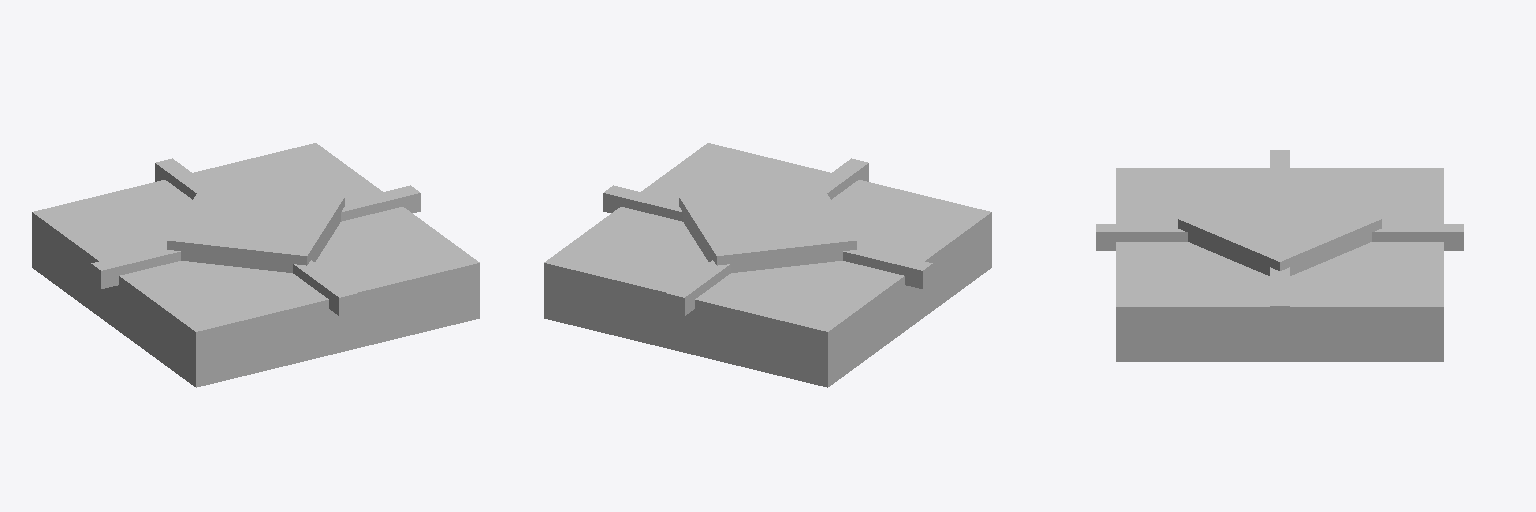
Rendered from conditionalPlate.obj.
3 views of the same model, side by side, from view 1: azimuth 30°, elevation 25°; view 2: azimuth 150°, elevation 25°; view 3: azimuth 270°, elevation 25° (orthographic).
Visible parts, largest first — view 1: Plate, ConditionalInstalled_Conditional, xChannel_Cube.005, yChannel_Cube.004; view 2: Plate, ConditionalInstalled_Conditional, xChannel_Cube.005, yChannel_Cube.004; view 3: Plate, ConditionalInstalled_Conditional, yChannel_Cube.004, xChannel_Cube.005.
Boxes of the visible parts, <box> form: Plate: <box>32,143,479,387</box>; ConditionalInstalled_Conditional: <box>167,181,344,272</box>; xChannel_Cube.005: <box>91,185,420,288</box>; yChannel_Cube.004: <box>155,158,356,315</box>; Plate: <box>544,143,991,387</box>; ConditionalInstalled_Conditional: <box>679,181,856,272</box>; xChannel_Cube.005: <box>603,185,932,288</box>; yChannel_Cube.004: <box>667,158,868,315</box>; Plate: <box>1116,168,1443,361</box>; ConditionalInstalled_Conditional: <box>1178,176,1381,275</box>; yChannel_Cube.004: <box>1096,224,1463,250</box>; xChannel_Cube.005: <box>1270,150,1289,324</box>.
Bounding box in the file's own units: 1.12 × 0.25 × 1.12.